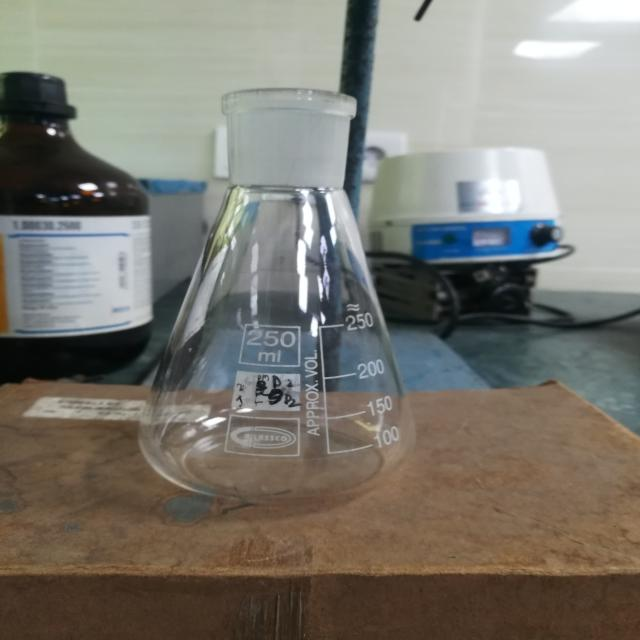Conical_Flask: (116, 70, 482, 538)
